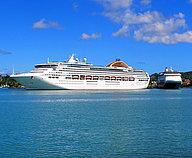Ship: (8, 50, 154, 94)
